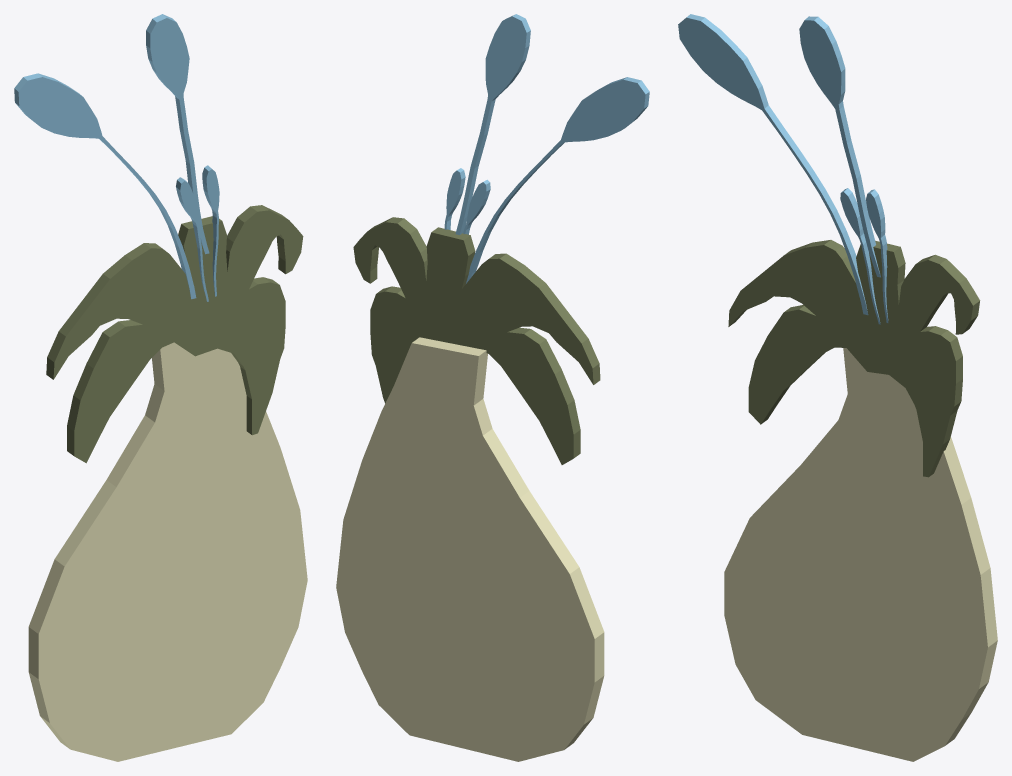
Rendered from Glowing_Plant_1.fbx.
3 renders of one model, left to right at view 1: azimuth 30°, elevation 25°; view 2: azimuth 150°, elevation 25°; view 3: azimuth 330°, elevation 25°, orthographic. The views are drawn at different scales.
Visible parts, largest first — view 1: polySurface3, polySurface4, pPlane57, pPlane60, pPlane62, pPlane61; view 2: polySurface3, polySurface4, pPlane57, pPlane60, pPlane62, pPlane61; view 3: polySurface3, polySurface4, pPlane57, pPlane60, pPlane62, pPlane61.
Part boxes in pixels (<box>): polySurface3: <box>28,342,307,761</box>; polySurface4: <box>46,205,303,463</box>; pPlane57: <box>14,73,196,299</box>; pPlane60: <box>146,14,209,254</box>; pPlane62: <box>202,165,219,296</box>; pPlane61: <box>176,177,208,301</box>; polySurface3: <box>336,337,604,761</box>; polySurface4: <box>353,217,600,464</box>; pPlane57: <box>466,77,649,283</box>; pPlane60: <box>455,14,530,234</box>; pPlane62: <box>444,168,465,229</box>; pPlane61: <box>463,179,490,234</box>; polySurface3: <box>724,348,997,761</box>; polySurface4: <box>728,240,980,477</box>; pPlane57: <box>678,14,868,315</box>; pPlane60: <box>799,16,880,277</box>; pPlane62: <box>866,189,888,322</box>; pPlane61: <box>840,188,880,324</box>.
Bounding box in the file's own units: 0.4993 × 1.18 × 0.0811.
